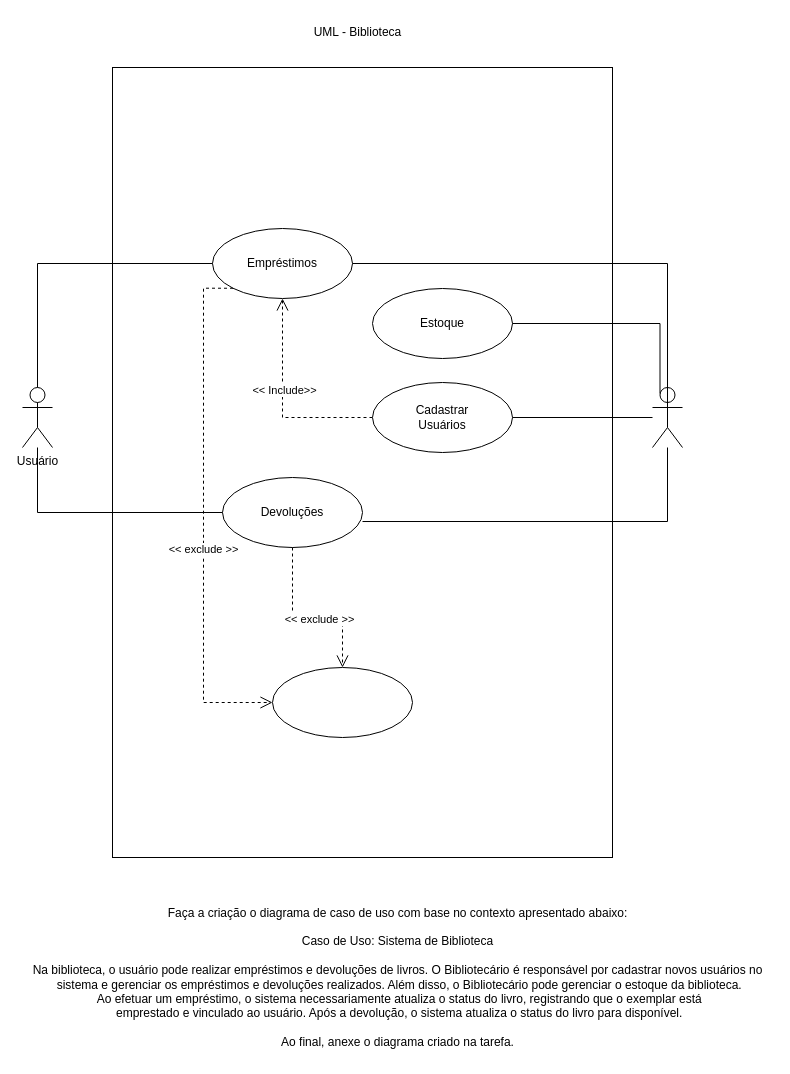
This 790x1074 diagram has some shape labels left out. The box of each missing label's shape, as (x1, y1, x2, y2) in pixels:
Atualiza Status: (272, 666, 412, 738)
Bibliotecário: (652, 386, 682, 448)
